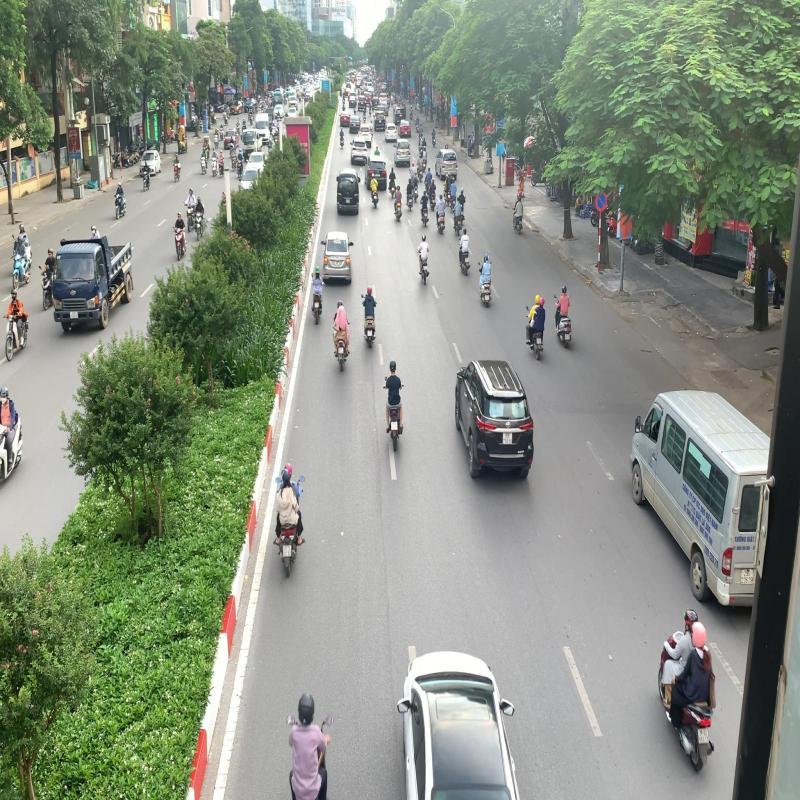helmet: (691, 620, 706, 648), (684, 607, 698, 629), (280, 468, 290, 482), (284, 462, 292, 477), (389, 359, 396, 373), (539, 297, 545, 307), (367, 285, 372, 294), (535, 295, 540, 304), (562, 285, 567, 294)
licenseplate: (698, 728, 710, 744), (282, 545, 292, 558), (390, 420, 398, 430), (536, 338, 542, 344), (565, 334, 570, 340), (368, 330, 372, 336)
motorcyclist: (658, 606, 716, 772), (274, 461, 306, 579), (383, 359, 405, 452), (526, 294, 546, 360), (554, 284, 573, 348), (360, 285, 378, 348)
